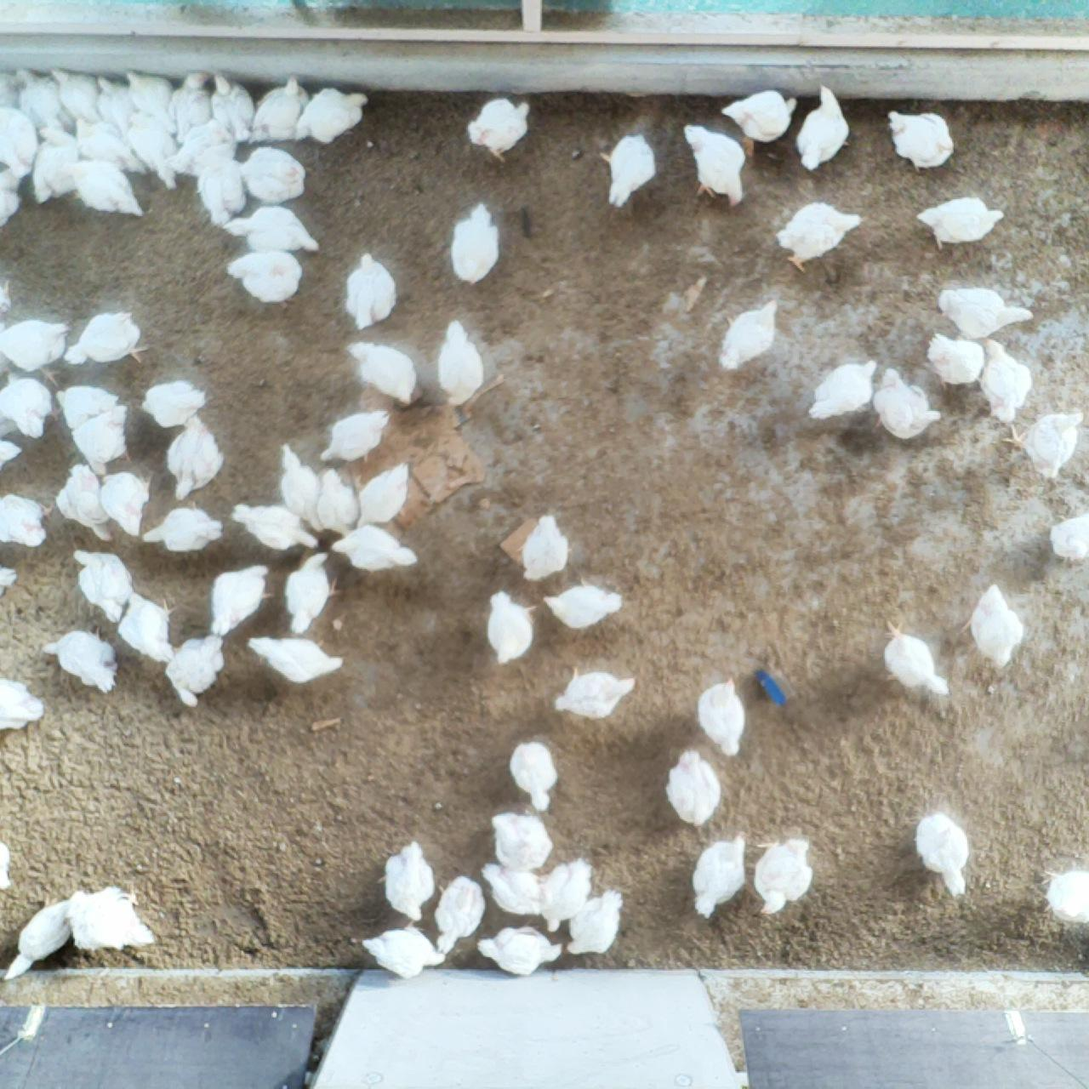chicken: (774, 200, 867, 272), (2, 895, 74, 984), (62, 885, 158, 951), (877, 617, 953, 698), (936, 280, 1033, 341), (791, 83, 856, 174), (1006, 407, 1086, 480), (871, 365, 945, 443), (38, 626, 121, 695), (720, 87, 800, 158), (68, 543, 137, 625), (680, 123, 746, 208), (283, 550, 347, 637), (959, 581, 1023, 668), (248, 630, 347, 685), (973, 336, 1034, 425), (916, 195, 1006, 255), (751, 836, 817, 917), (883, 109, 963, 175), (164, 418, 227, 501), (912, 811, 971, 899), (377, 840, 437, 925), (208, 561, 274, 638), (222, 203, 321, 254), (0, 319, 73, 388), (475, 921, 563, 978), (62, 309, 150, 366), (161, 118, 238, 183), (465, 94, 535, 165), (273, 441, 326, 534), (690, 832, 747, 918), (162, 631, 224, 710), (248, 75, 315, 147), (807, 355, 880, 421), (360, 926, 449, 980), (113, 588, 177, 663), (664, 748, 724, 828), (343, 250, 400, 334), (715, 297, 778, 373), (539, 576, 626, 631), (551, 666, 638, 721), (597, 133, 659, 210), (226, 500, 317, 552), (54, 464, 115, 541), (138, 499, 223, 554), (435, 318, 488, 405), (67, 404, 133, 473), (223, 249, 304, 305), (347, 340, 418, 403), (331, 522, 420, 572), (295, 85, 369, 145), (448, 201, 502, 283), (544, 853, 596, 937), (318, 408, 394, 465), (484, 585, 538, 665), (71, 158, 143, 218), (27, 125, 80, 206), (0, 370, 64, 437), (566, 885, 626, 956), (238, 145, 306, 207), (355, 460, 412, 533), (73, 118, 146, 175), (128, 110, 180, 190), (435, 875, 487, 954), (696, 676, 747, 756), (478, 859, 546, 918), (14, 71, 77, 134), (313, 463, 362, 543), (98, 470, 154, 539), (520, 512, 575, 581), (490, 811, 553, 871), (509, 740, 560, 814), (198, 155, 248, 227), (123, 68, 177, 133), (143, 377, 210, 429), (926, 333, 986, 390), (48, 68, 103, 129), (210, 73, 257, 143), (1037, 867, 1089, 930), (172, 69, 215, 144), (53, 382, 120, 430), (0, 493, 54, 549), (90, 73, 135, 135), (0, 105, 38, 176), (0, 676, 43, 734), (1048, 512, 1089, 565), (255, 81, 311, 119), (0, 171, 21, 225), (0, 68, 25, 111), (0, 435, 23, 470), (0, 559, 17, 598), (0, 841, 12, 891)
